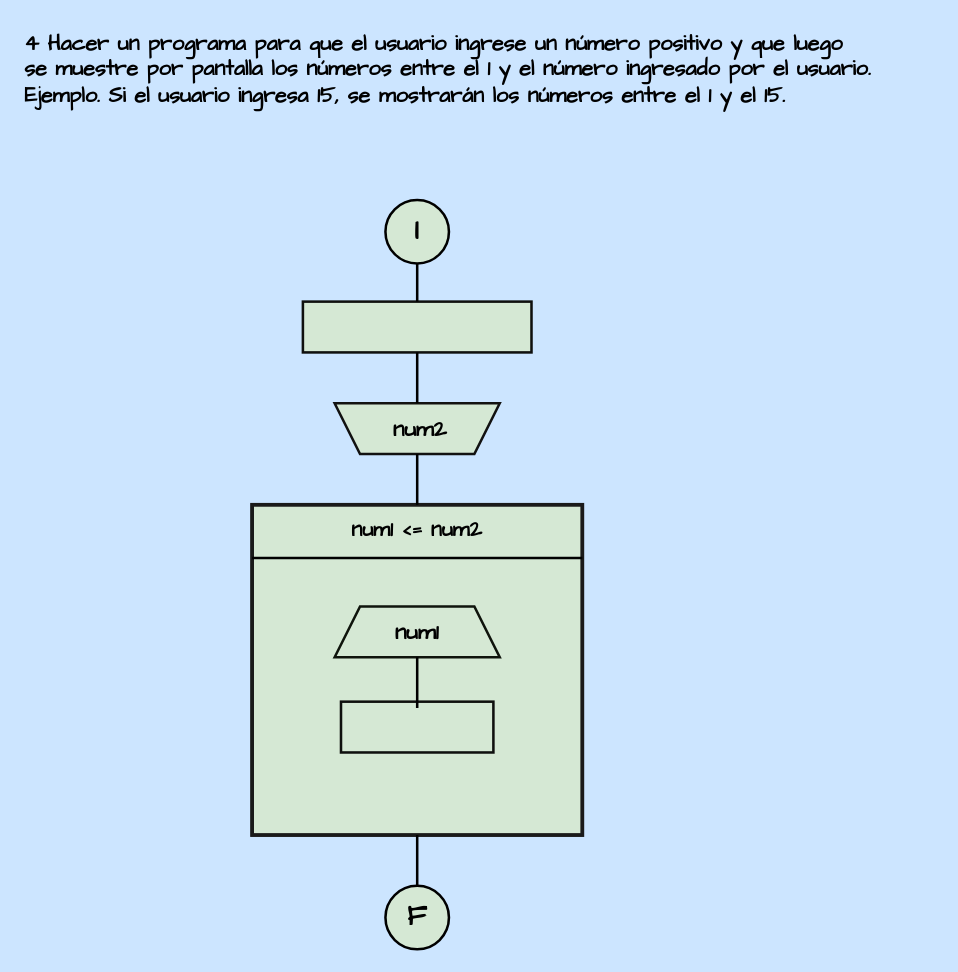
This 958x972 diagram has some shape labels left out. Each missing label, with the centre of its shape:
"int num1 = 1, num2" belongs at (416,326).
"num1++" belongs at (416,726).
